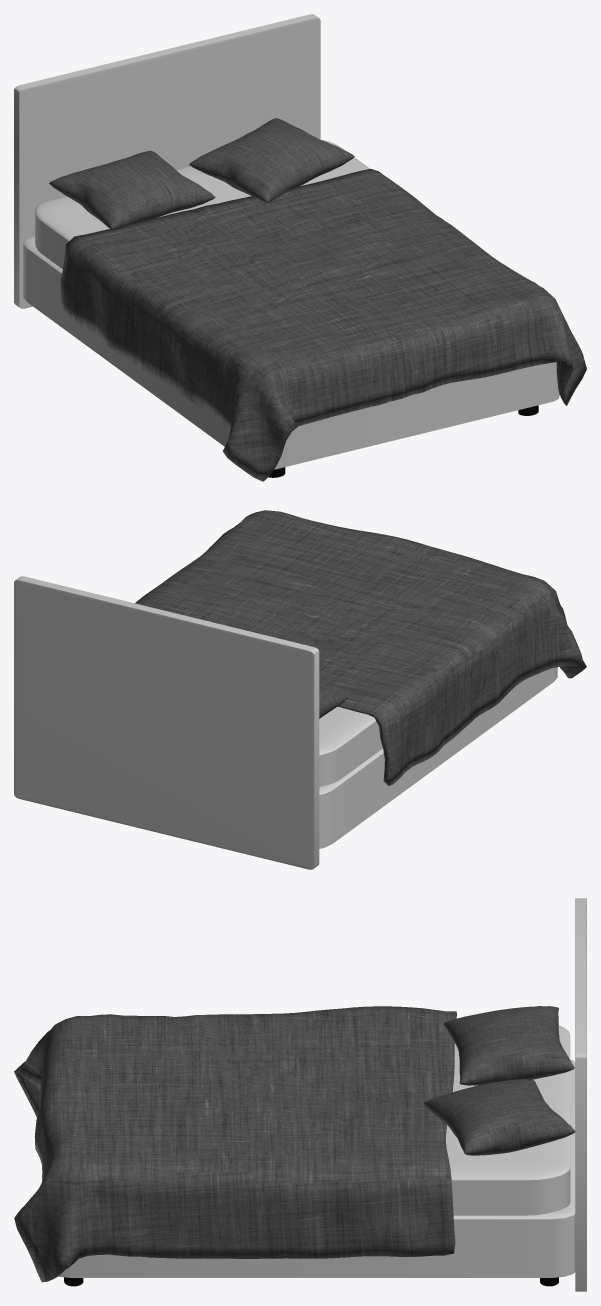
File: uploads_files_6442789_Bed.fbx
3 views of the same model, one above another, from view 1: azimuth 30°, elevation 25°; view 2: azimuth 150°, elevation 25°; view 3: azimuth 270°, elevation 25° (orthographic). The views are drawn at different scales.
Parts seen in each view (by area): view 1: Bed; view 2: Bed; view 3: Bed.
Boxes of the visible parts, bbox=[...] form: Bed: bbox=[14, 14, 586, 481]; Bed: bbox=[14, 510, 586, 869]; Bed: bbox=[14, 898, 586, 1291].
Size of the model in its own units: 352 by 204 by 445.
